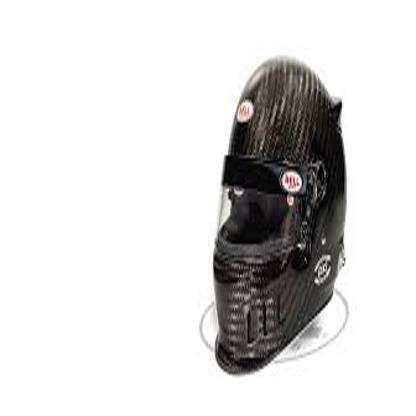not trash: (212, 54, 348, 374)
